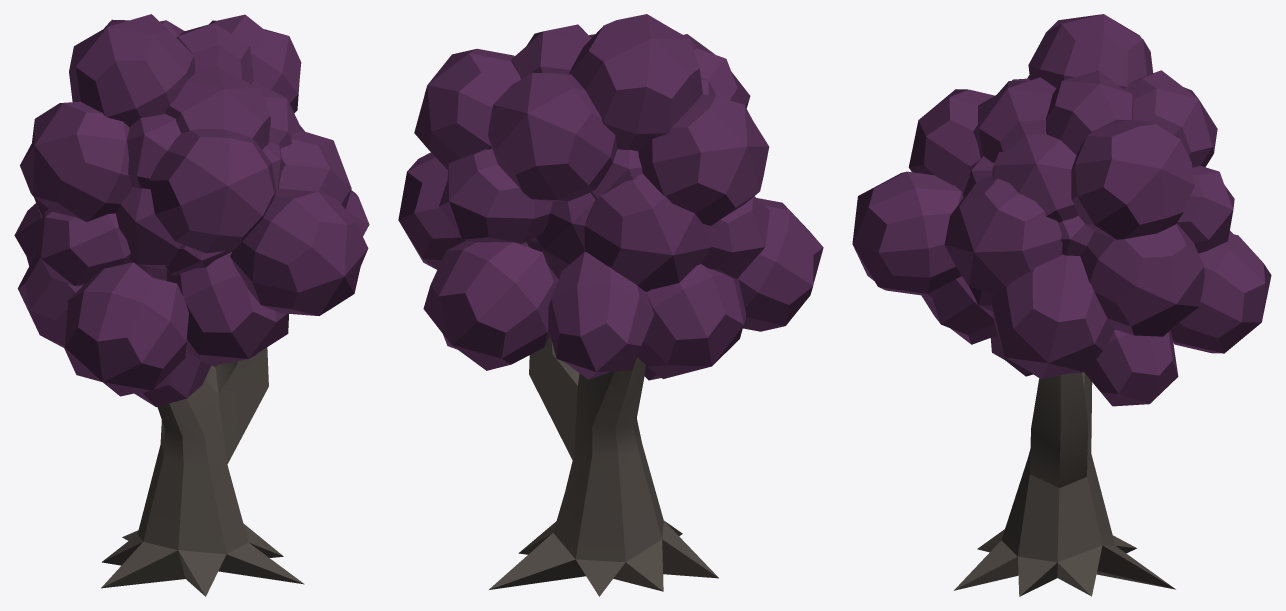
The model's file is BigTree.fbx.
3 views of the same model, side by side, from view 1: azimuth 30°, elevation 25°; view 2: azimuth 150°, elevation 25°; view 3: azimuth 270°, elevation 25° (orthographic). The views are drawn at different scales.
Parts seen in each view (by area): view 1: trunk, polySurface24, polySurface20, polySurface9, polySurface10, polySurface29, polySurface1, polySurface2, polySurface21, polySurface33, polySurface8, polySurface16 (+10 smaller); view 2: trunk, polySurface23, polySurface4, polySurface10, polySurface17, polySurface22, polySurface27, polySurface8, polySurface1, polySurface13, polySurface24, polySurface33 (+6 smaller); view 3: trunk, polySurface8, polySurface25, polySurface20, polySurface18, polySurface16, polySurface23, polySurface9, polySurface28, polySurface6, polySurface4, polySurface3 (+7 smaller).
Part boxes in pixels (<box>): trunk: <box>101,347,304,596</box>; polySurface24: <box>64,262,188,396</box>; polySurface20: <box>230,188,368,315</box>; polySurface9: <box>149,129,276,253</box>; polySurface10: <box>20,101,132,221</box>; polySurface29: <box>166,252,288,365</box>; polySurface1: <box>75,14,195,118</box>; polySurface2: <box>165,66,270,150</box>; polySurface21: <box>33,209,137,286</box>; polySurface33: <box>69,21,193,126</box>; polySurface8: <box>209,14,301,112</box>; polySurface16: <box>278,131,351,208</box>; trunk: <box>489,335,718,596</box>; polySurface23: <box>423,240,558,370</box>; polySurface4: <box>487,72,617,201</box>; polySurface10: <box>638,94,769,225</box>; polySurface17: <box>584,173,711,291</box>; polySurface22: <box>548,252,653,379</box>; polySurface27: <box>637,264,746,378</box>; polySurface8: <box>414,48,520,169</box>; polySurface1: <box>569,14,697,124</box>; polySurface13: <box>439,149,552,243</box>; polySurface24: <box>738,198,823,331</box>; polySurface33: <box>571,17,702,151</box>; trunk: <box>953,372,1175,596</box>; polySurface8: <box>1071,120,1194,239</box>; polySurface25: <box>991,254,1114,379</box>; polySurface20: <box>852,171,963,295</box>; polySurface18: <box>1080,223,1204,336</box>; polySurface16: <box>944,176,1062,294</box>; polySurface23: <box>1170,233,1271,353</box>; polySurface9: <box>908,89,994,194</box>; polySurface28: <box>1085,329,1178,406</box>; polySurface6: <box>992,134,1078,222</box>; polySurface4: <box>1124,70,1217,167</box>; polySurface3: <box>1046,70,1133,154</box>.
Bounding box in the file's own units: 6.01 × 9.58 × 6.87.
